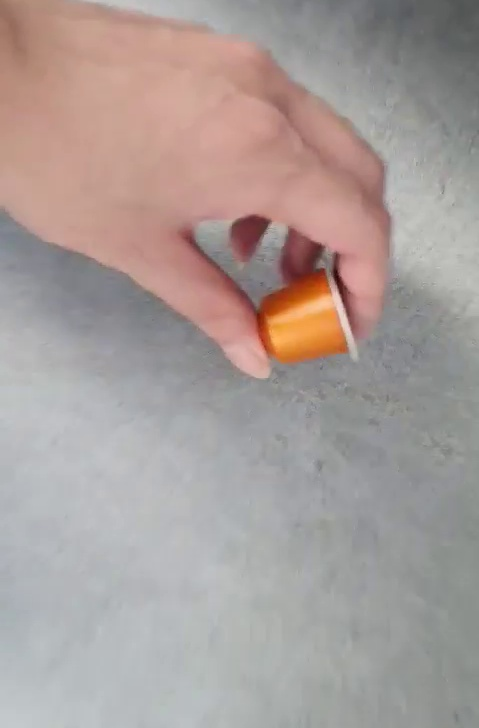capsule_5: (251, 257, 365, 369)
